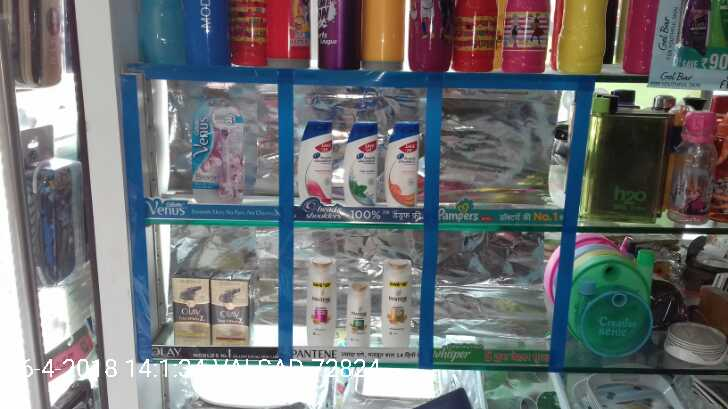venus: (191, 98, 245, 202)
